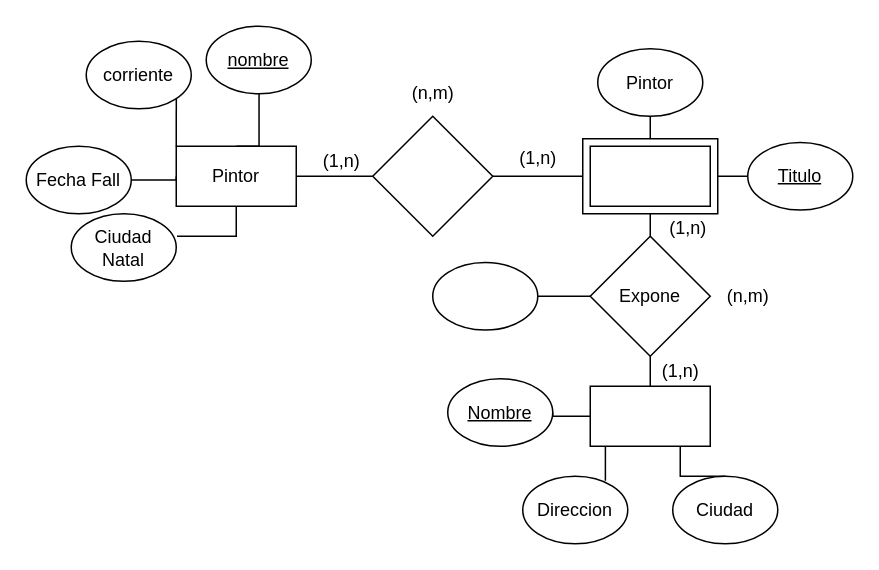
Some shapes in this 879 by 570 pixel diagram are drawn without their labels. The centre of each missing label's shape, as x and y in pixels:
"Cuadro" goes at pixel 649 175.
"Fecha" goes at pixel 484 295.
"Museo" goes at pixel 649 415.
"Pinto" goes at pixel 432 175.
